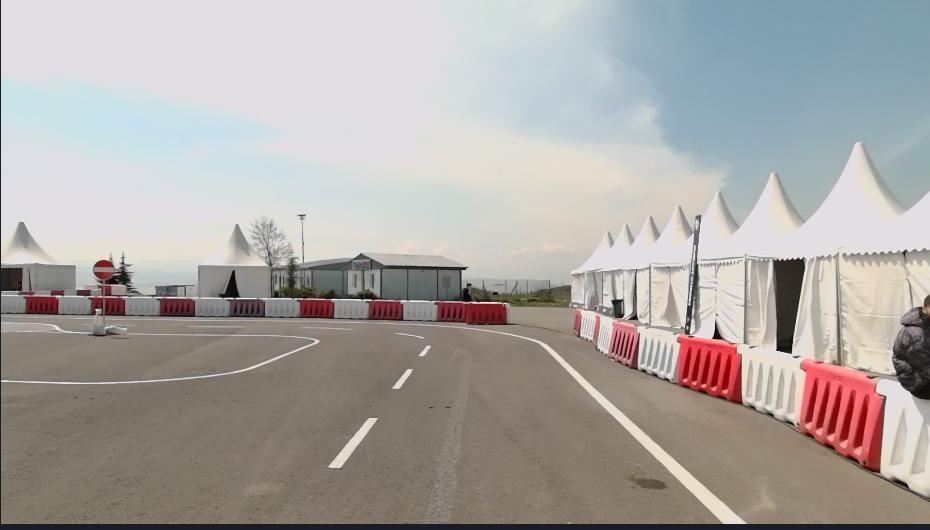nesne: (0, 314, 752, 525), (111, 314, 746, 523), (154, 315, 746, 525), (0, 318, 436, 526), (572, 309, 930, 502), (0, 320, 318, 385), (0, 295, 508, 324), (797, 358, 882, 472), (874, 376, 929, 499), (736, 343, 806, 428), (674, 335, 742, 403), (891, 294, 928, 398), (634, 324, 680, 384), (329, 416, 380, 468), (609, 319, 639, 368), (439, 301, 507, 322), (193, 296, 231, 317), (402, 300, 438, 322), (298, 297, 334, 318), (367, 299, 403, 320), (123, 296, 160, 316), (158, 296, 193, 317), (264, 297, 299, 318), (333, 298, 368, 319), (25, 294, 57, 316), (89, 296, 124, 316), (598, 314, 614, 357), (231, 297, 265, 317), (57, 296, 91, 315), (93, 258, 117, 280), (578, 310, 595, 341), (391, 365, 413, 388), (0, 295, 26, 312), (92, 306, 105, 336), (591, 312, 601, 349), (571, 308, 583, 336), (461, 283, 473, 301), (397, 332, 424, 340), (418, 343, 432, 358), (303, 326, 350, 330)
